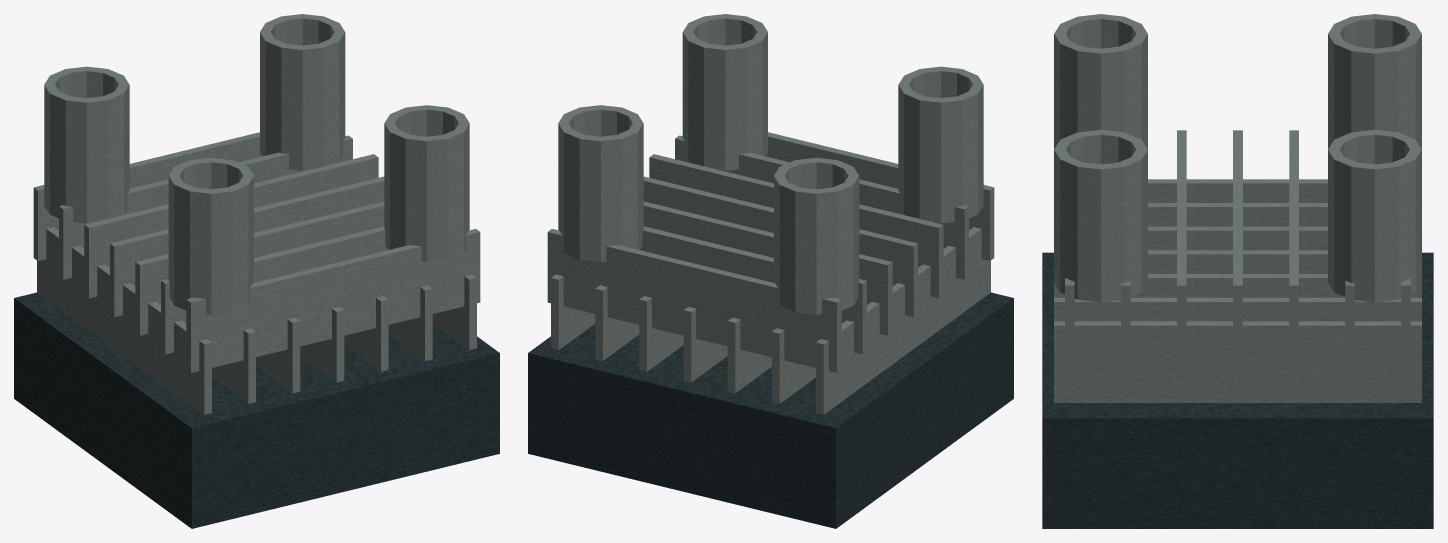
Rendered from levitation_grid_01.fbx.
The picture shows the model from 3 angles, left to right: view 1: azimuth 30°, elevation 25°; view 2: azimuth 150°, elevation 25°; view 3: azimuth 270°, elevation 25°; orthographic projection. The views are drawn at different scales.
Visible parts, largest first — view 1: levitation_grid_01_LOD0; view 2: levitation_grid_01_LOD0; view 3: levitation_grid_01_LOD0.
Boxes of the visible parts, x1,y1,x2,y2 form: levitation_grid_01_LOD0: (14,14,499,528); levitation_grid_01_LOD0: (528,14,1013,528); levitation_grid_01_LOD0: (1042,14,1433,528).
Size of what is drawn, in the model's own units: 1 by 1 by 1.
